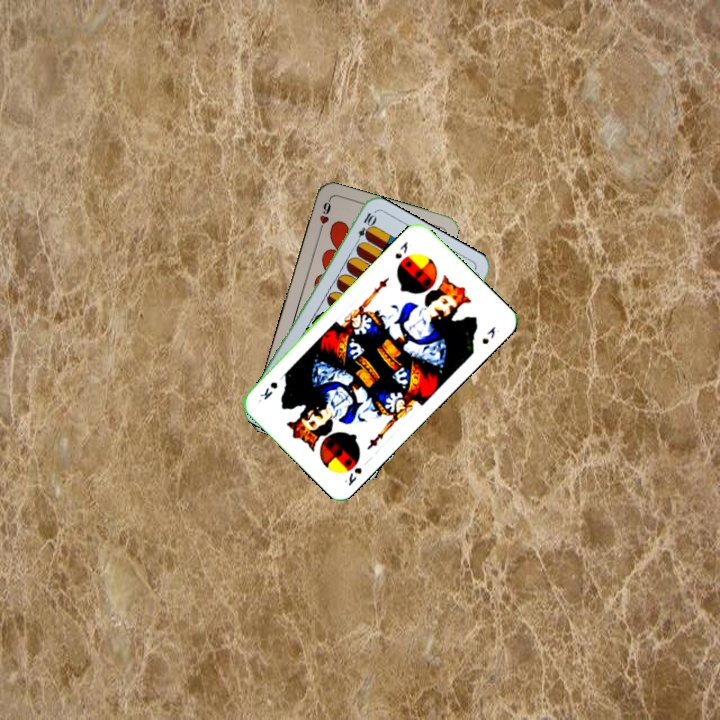E10: (351, 209, 378, 248)
H9: (315, 196, 333, 236)
SK: (340, 463, 365, 489), (391, 237, 411, 262)
